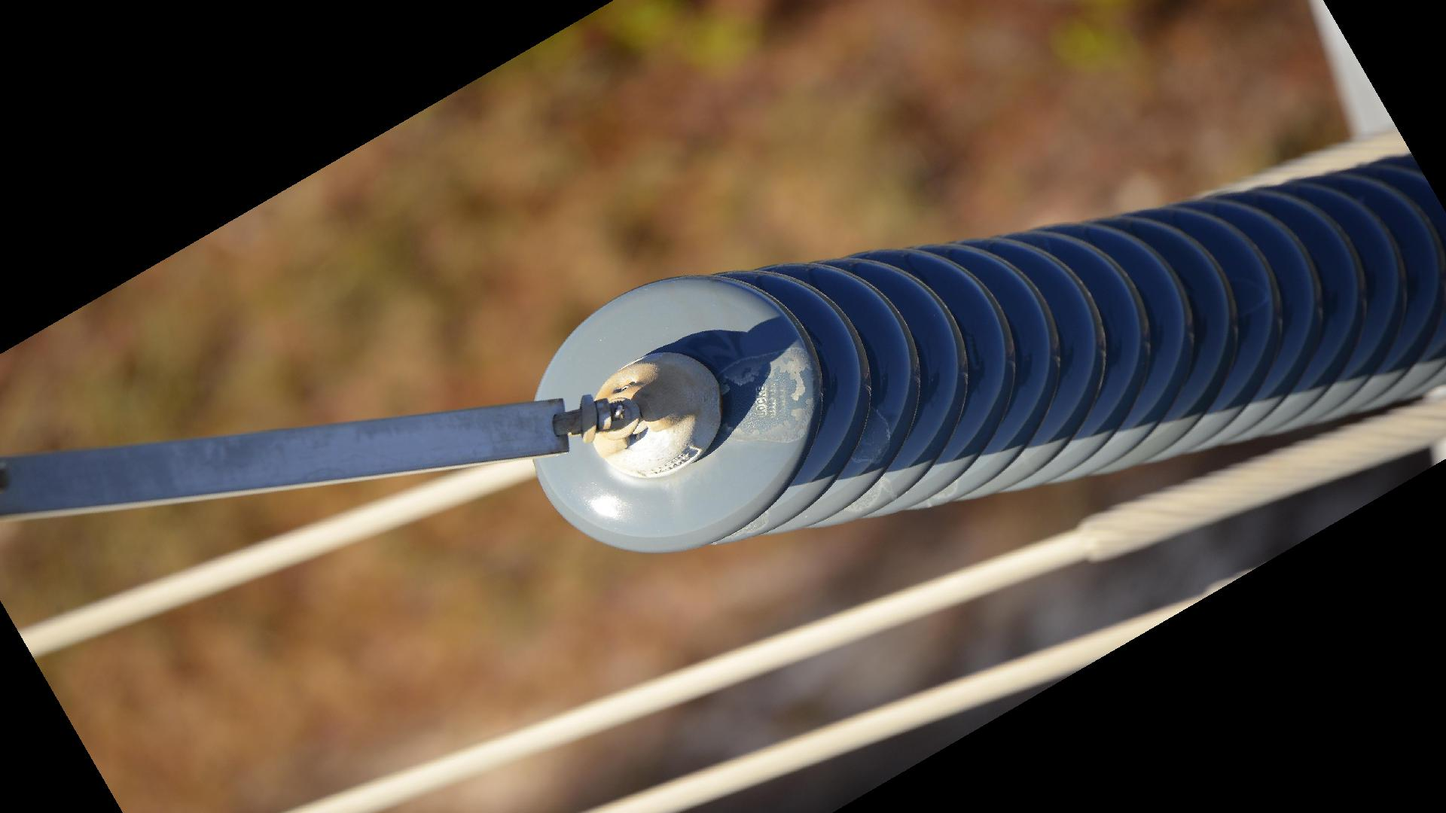insulator: (529, 149, 1446, 561)
insulator_flashover: (712, 342, 819, 446)
